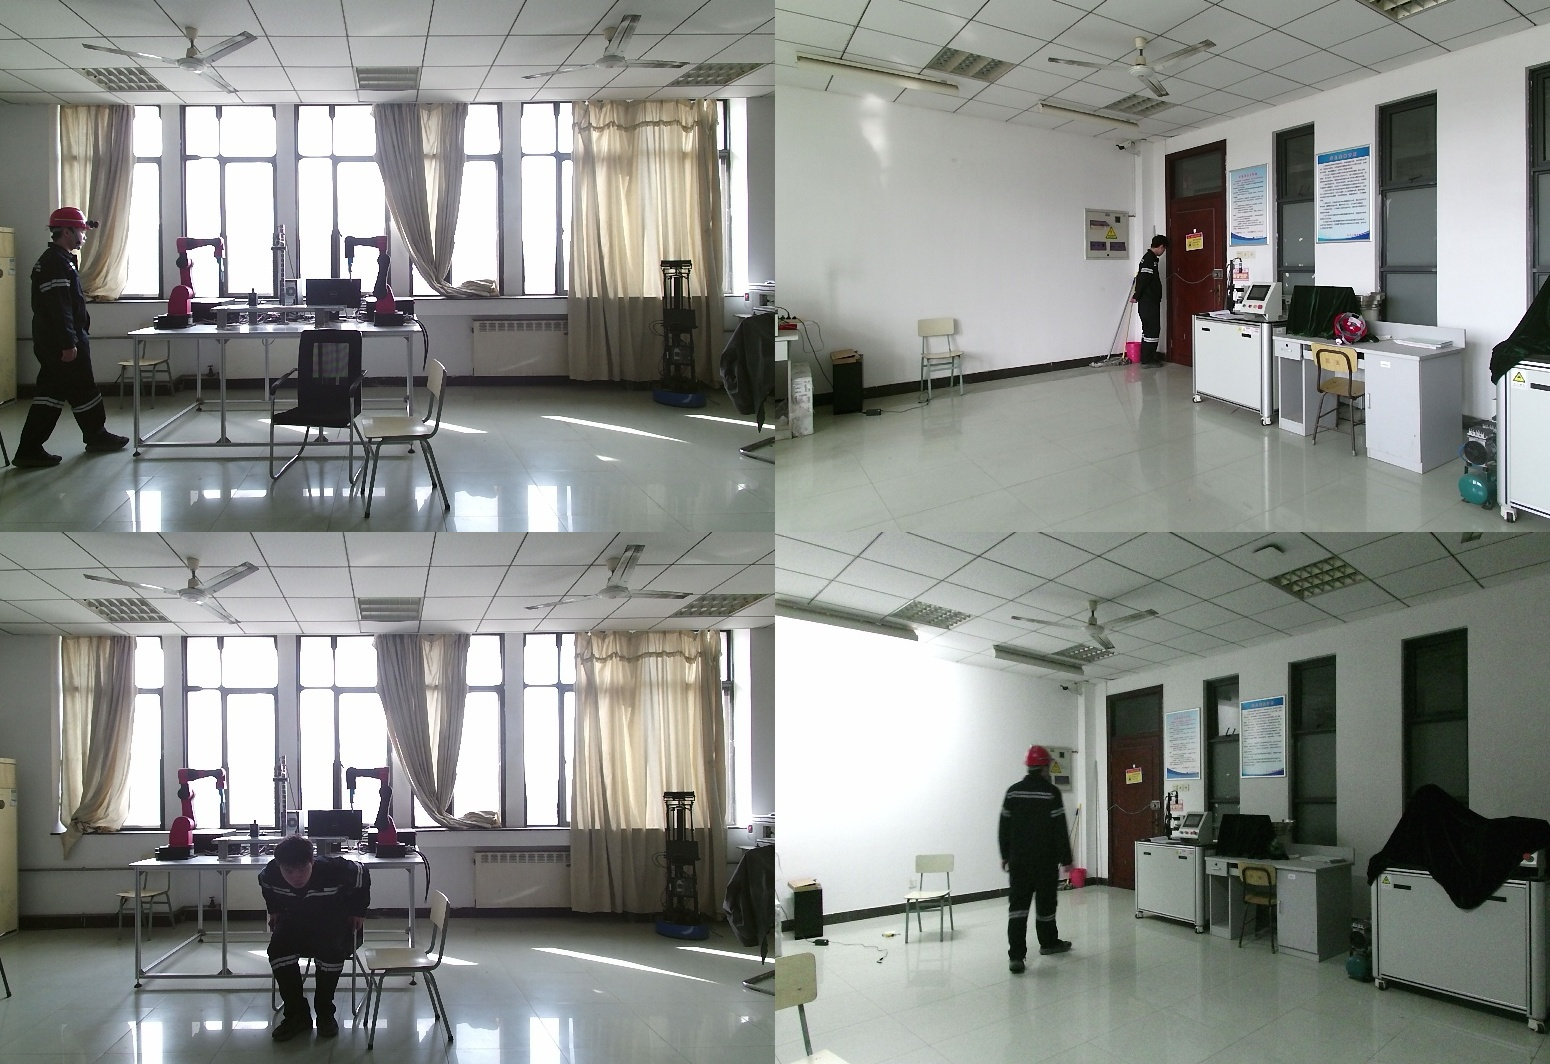person: (12, 207, 130, 467), (259, 835, 380, 1039), (987, 747, 1070, 976), (1132, 236, 1173, 374)
